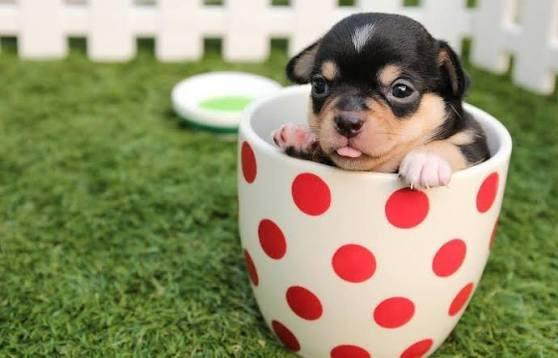puppy-dog: (272, 10, 491, 191)
